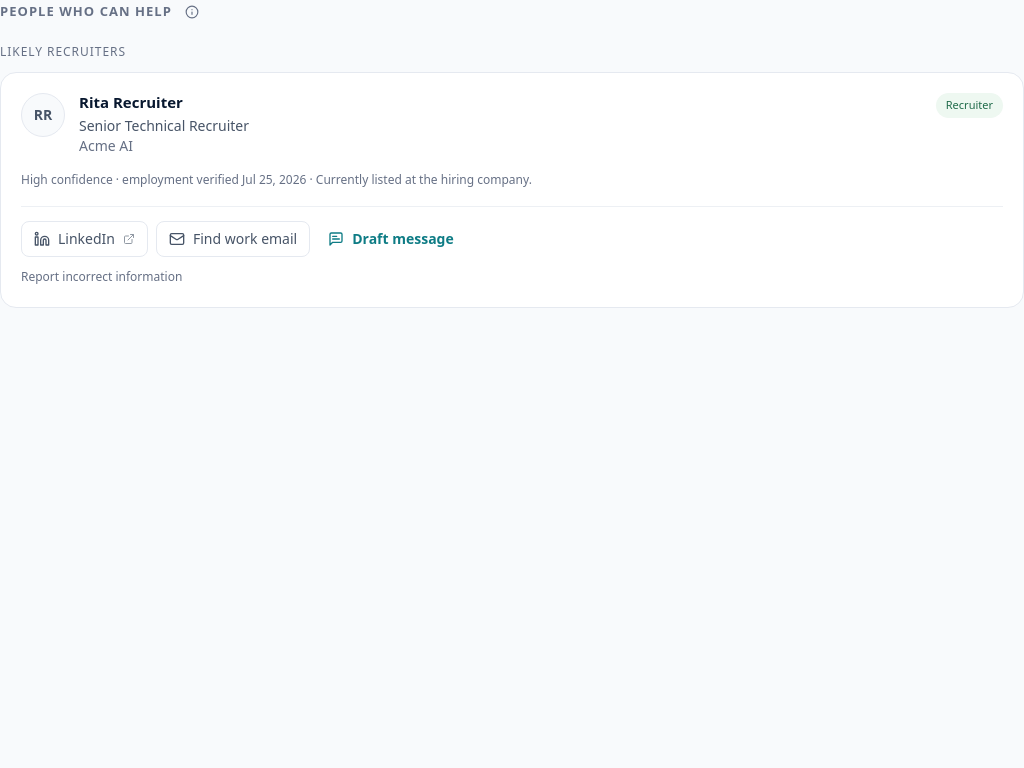
Test: Improve with AI › replaces the draft when the backend returns a validated result
Click the button "Draft message": point(391, 239) [318,221,464,257]
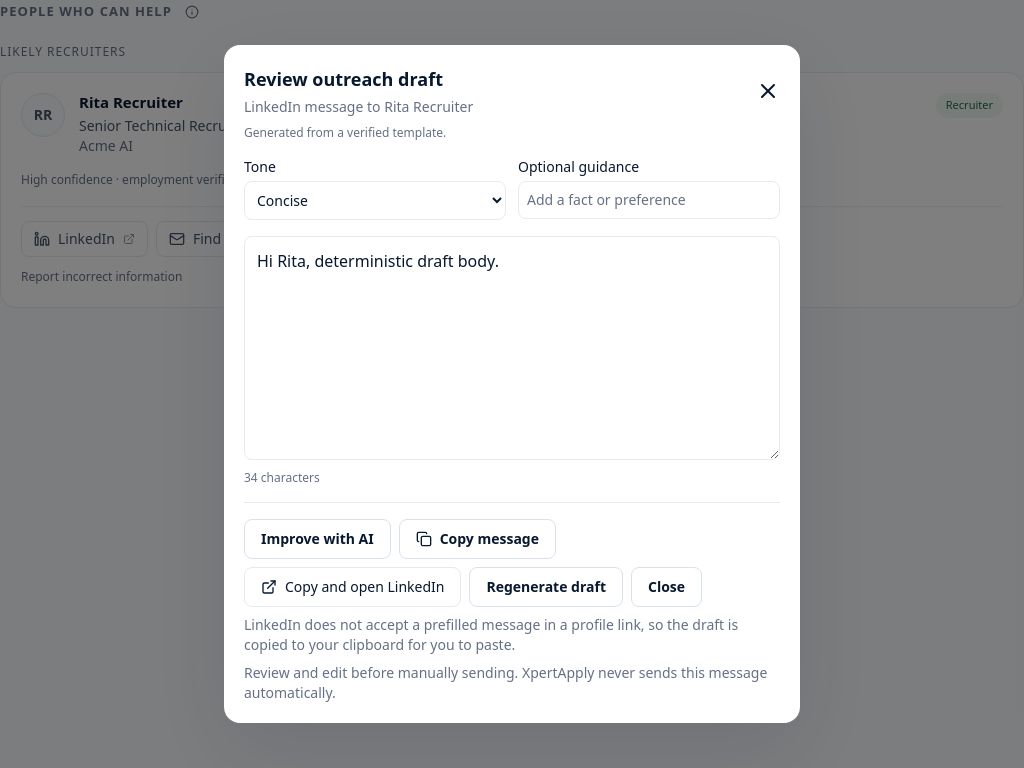
Result: the text box "Hi Rita, deterministic draft body." is shown at [244,236,780,460]
Click the button "Improve with AI": point(317, 539) [244,519,391,559]
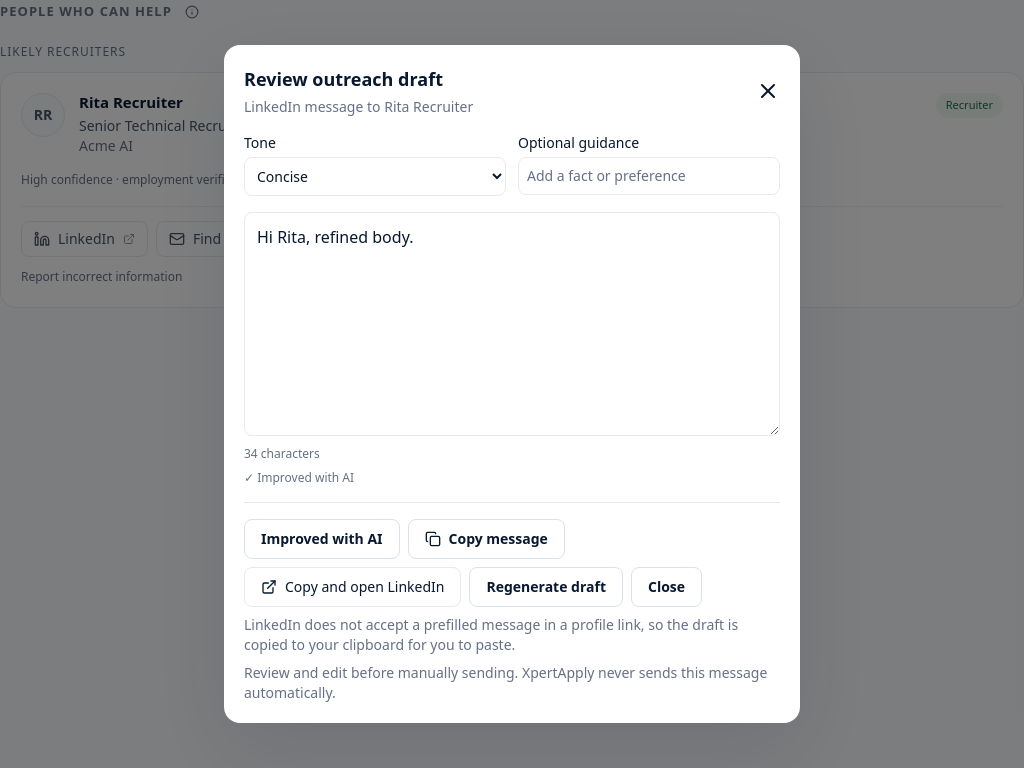
Result: the text box "Hi Rita, refined body." is shown at [244,212,780,436]
Result: the text "✓ Improved with AI" is shown at [244,469,354,486]
